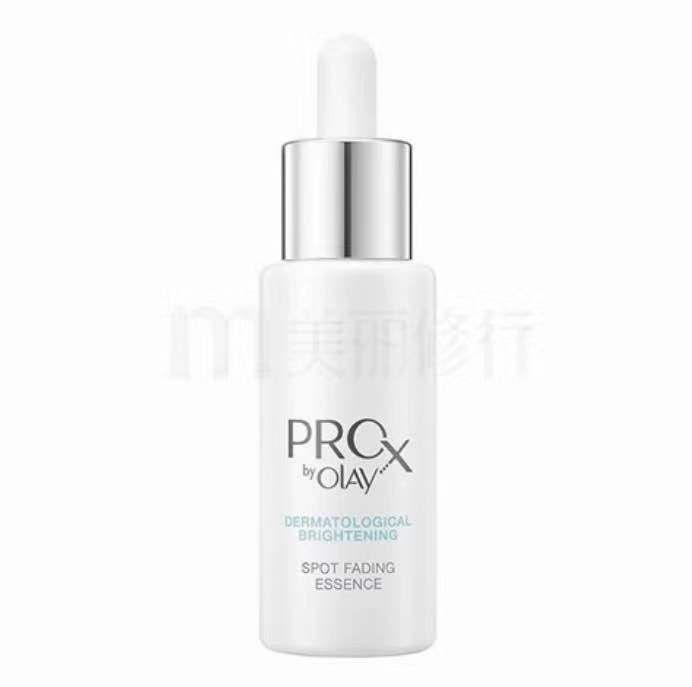cosmetic: (263, 37, 440, 641)
